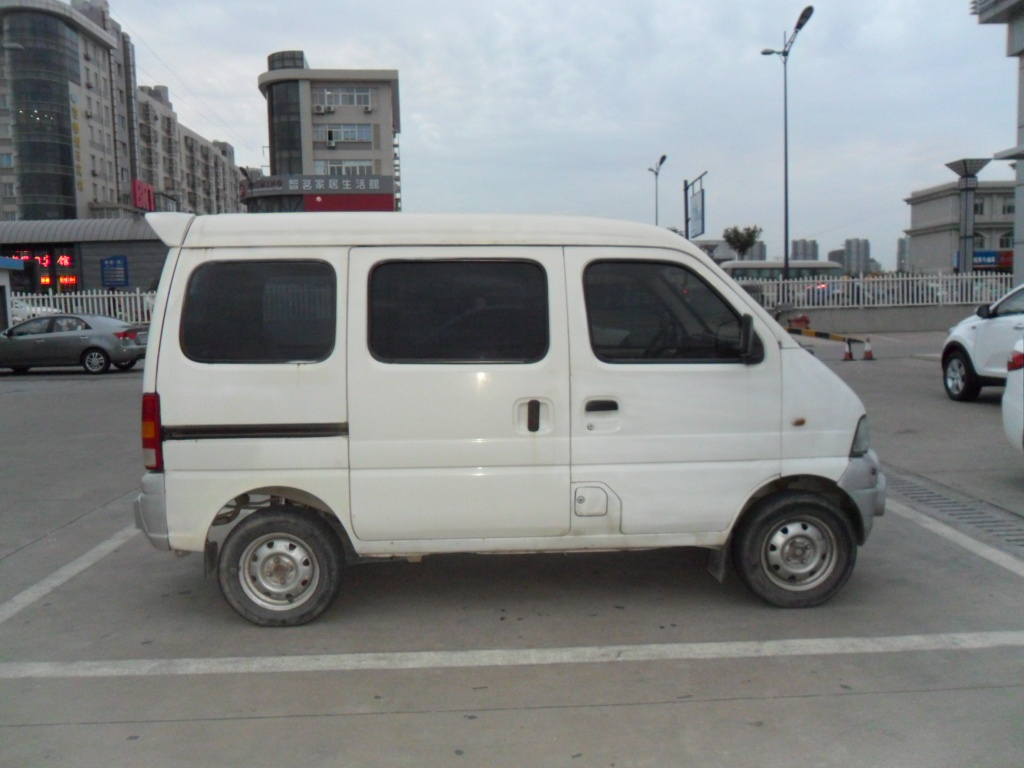minibus: (112, 192, 891, 640)
